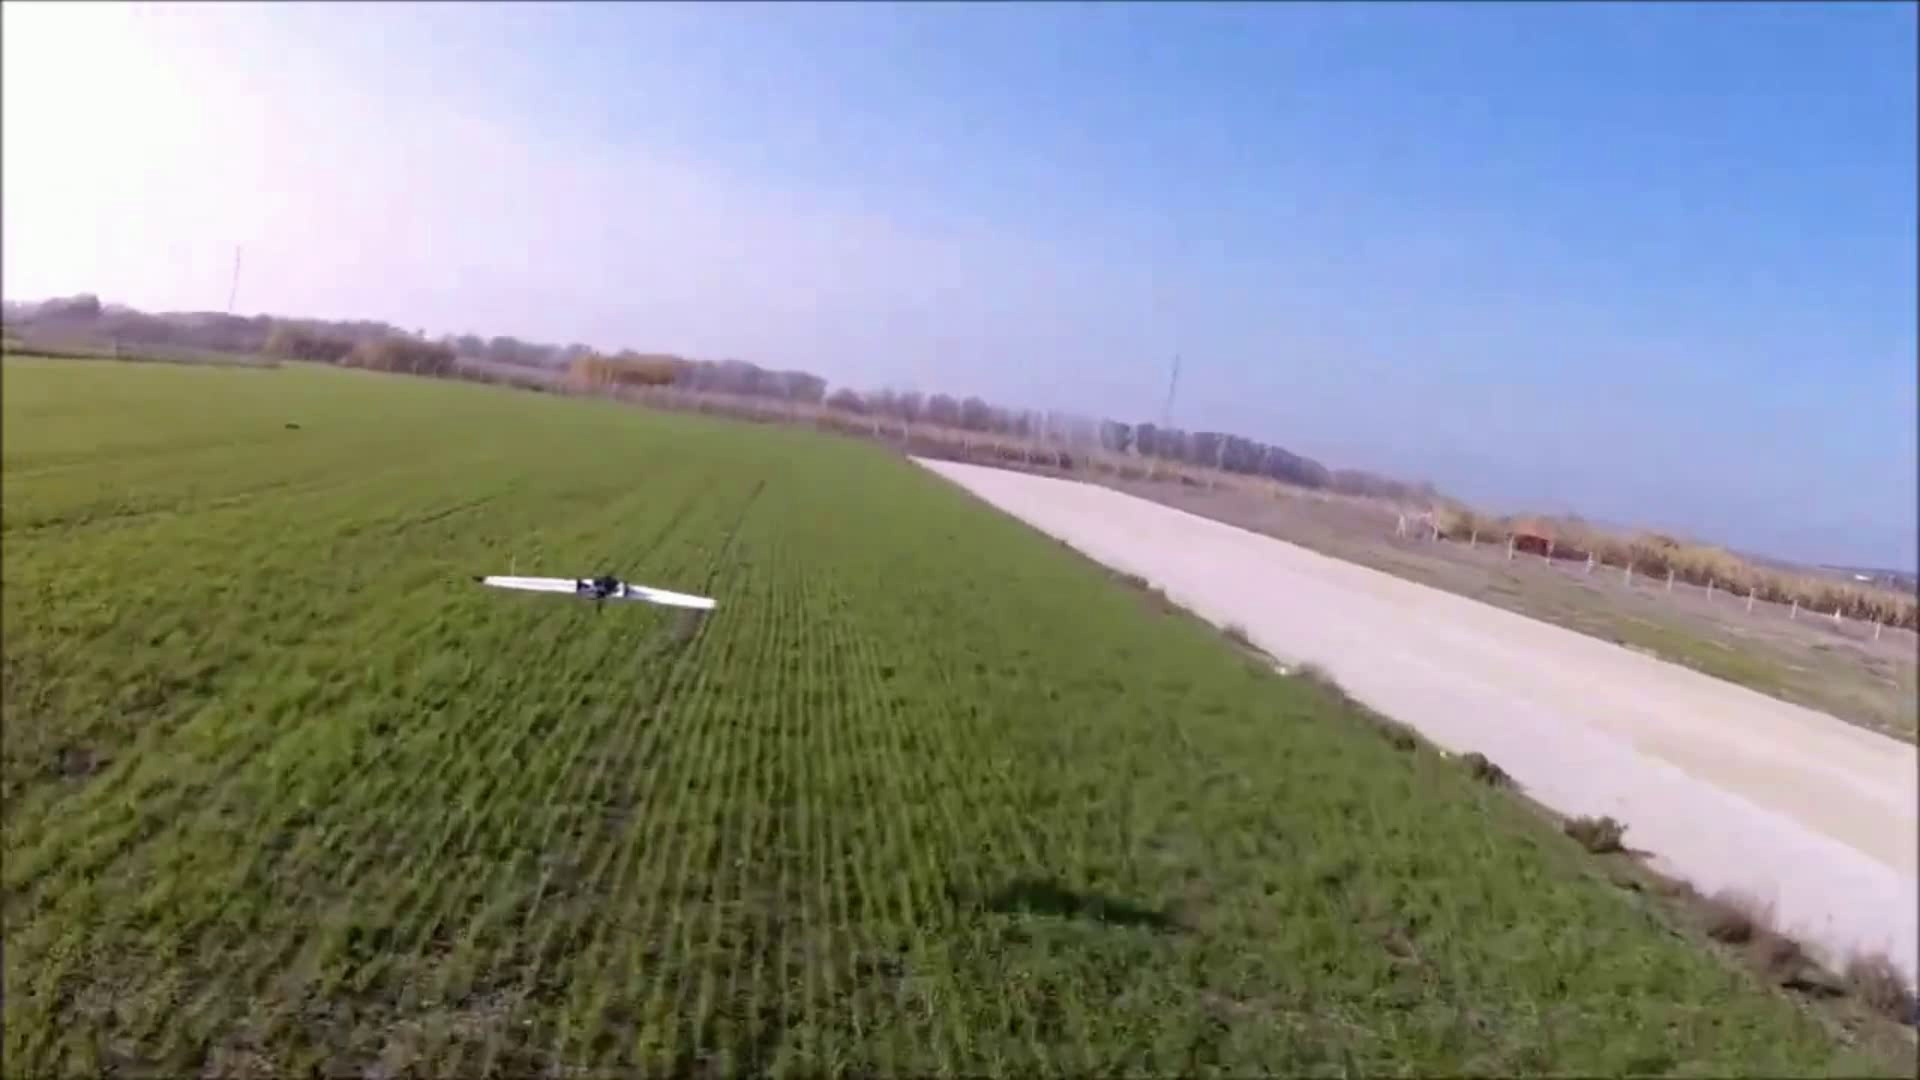airplane: (479, 572, 716, 618)
